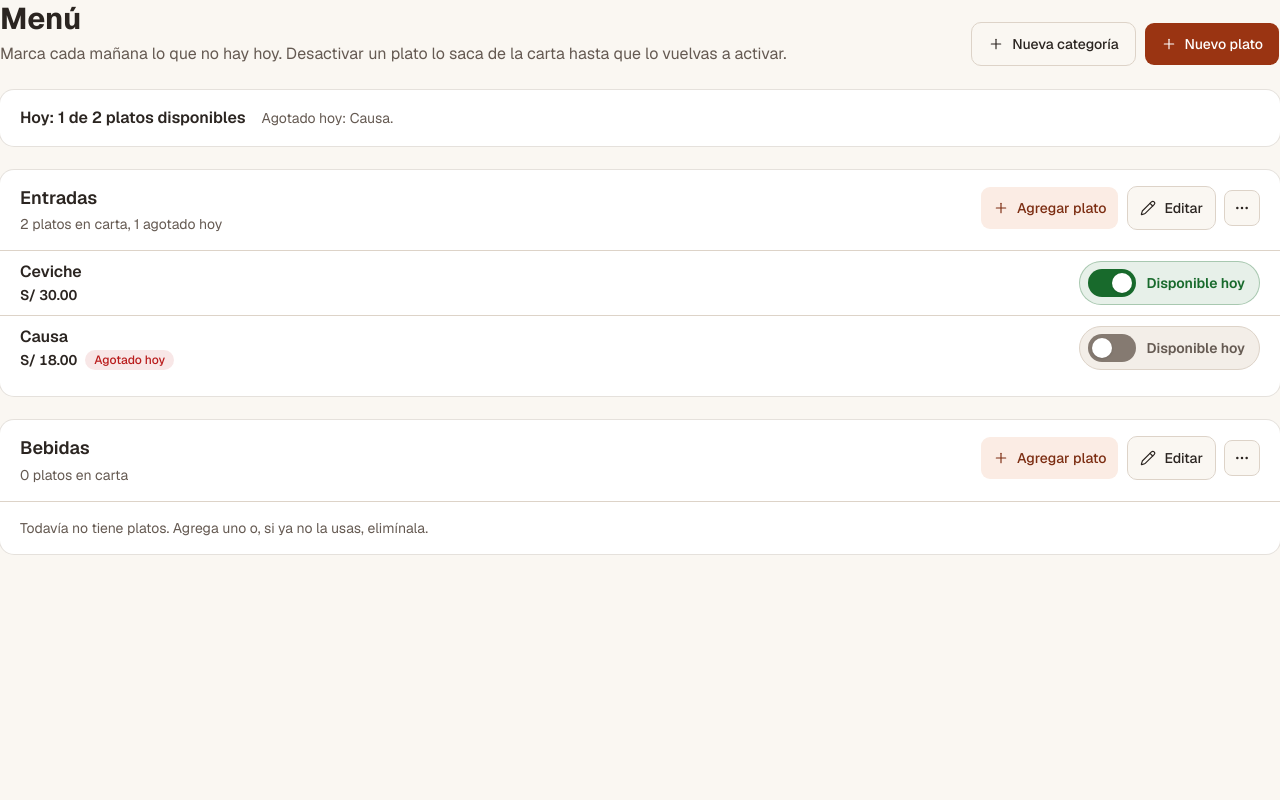
Test: DishPhotoField: la foto en la ficha del plato › un plato sin foto lo dice y ofrece subirla
Click the button named "Ver la ficha de Ceviche".
click(544, 283)  # box [16, 251, 1072, 315]
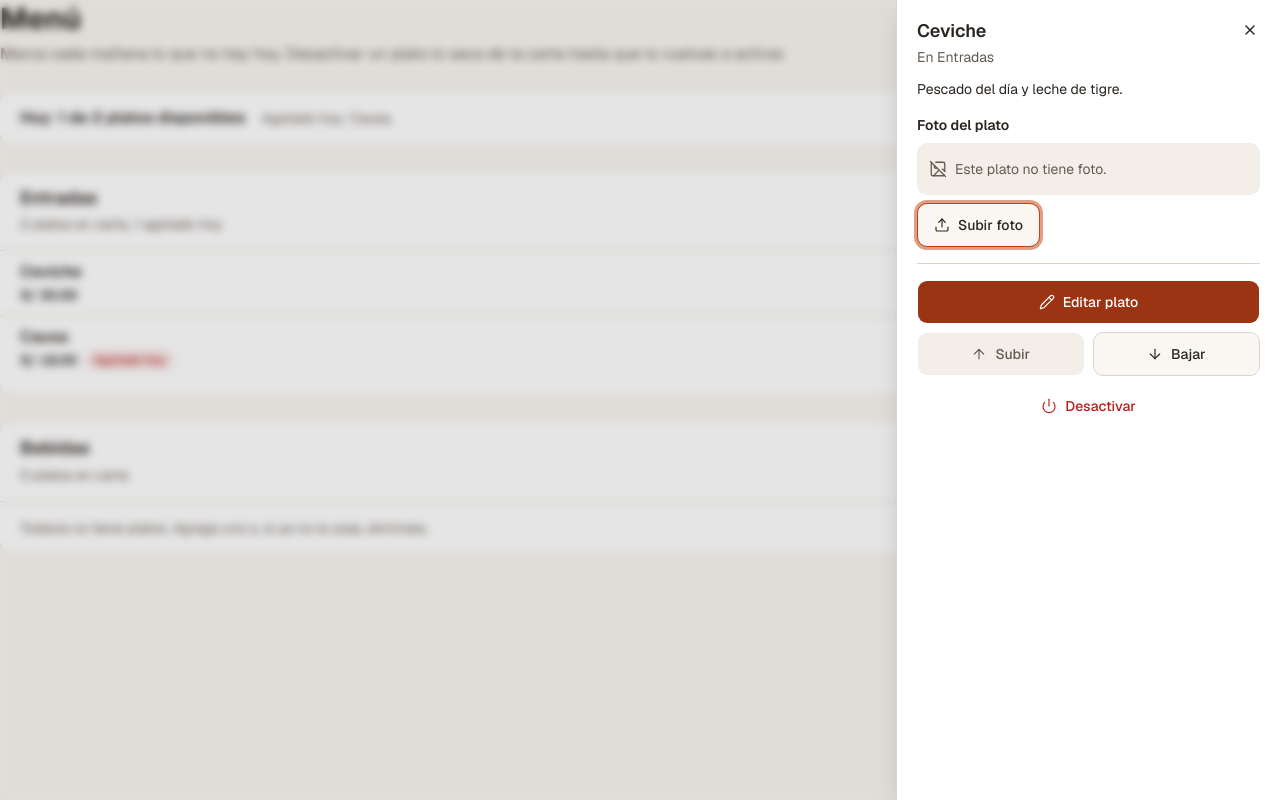
Result: the text "Este plato no tiene foto." is shown at [955, 158, 1106, 178]
Result: the button "Subir foto" is enabled at [917, 202, 1040, 246]
